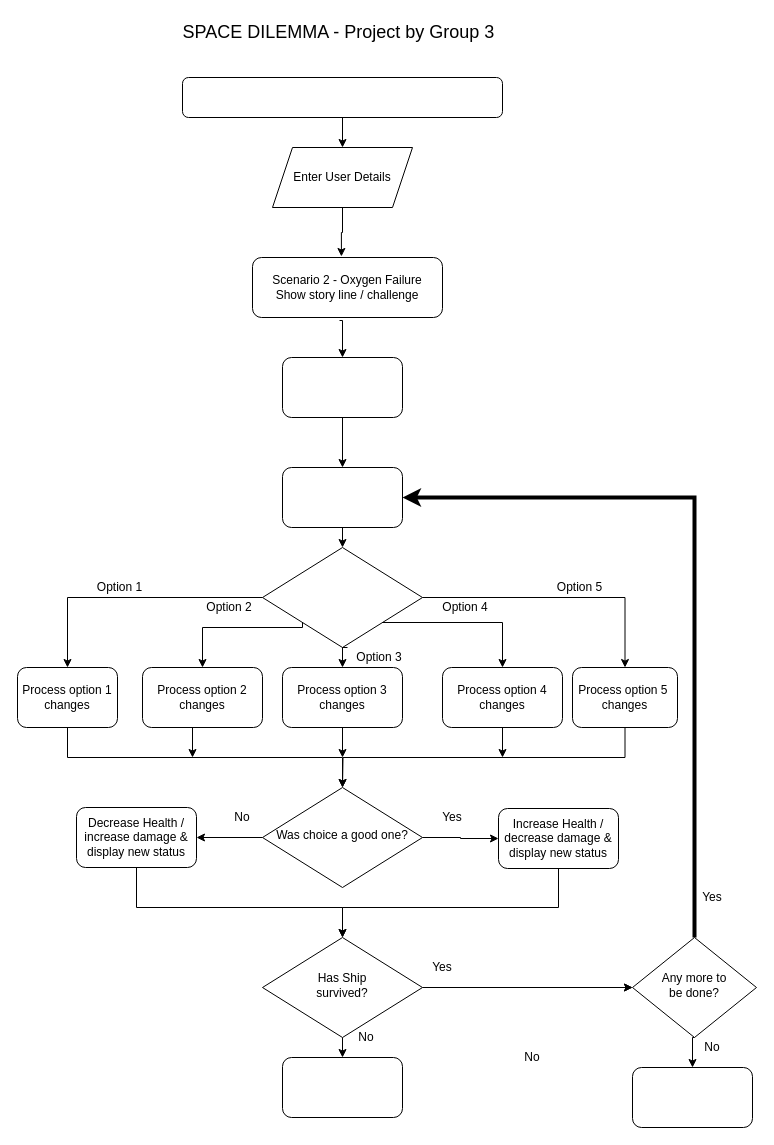
The diagram is 774 pixels wide and 1145 high, and some of its shapes have lost their labels. Here are the shapes that lost their labels. From the top down, the centre of each, then its label:
At (342,97): "Start - Game Intro .... scroll text and overview".
At (342,387): "Use randomizer to Set initial game parameters".
At (342,497): "Display current status of environment, user and team".
At (342,597): "Prompt user for a choice 1-5".
At (342,1087): "GAME OVER - FAIL Show Results".
At (692,1097): "GAME OVER - SUCCESS Show Results".
